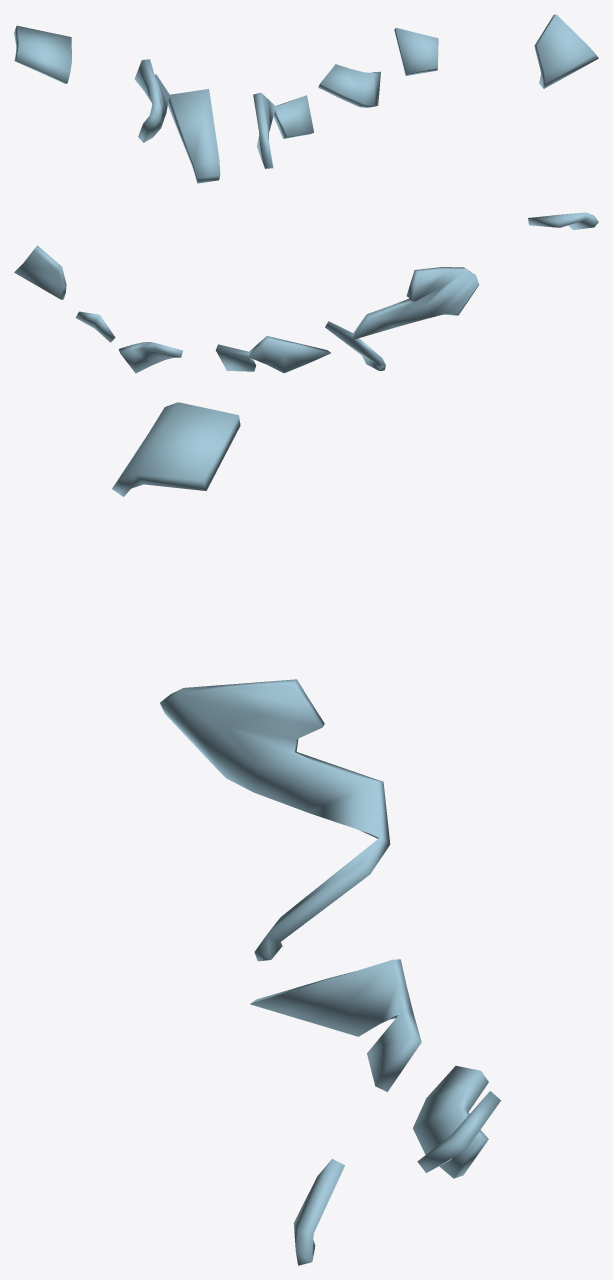
File: articulacoes-palmar-carpometacarpal-ligaments-r.glb
3 renders of one model, top to bottom at view 1: azimuth 30°, elevation 25°; view 2: azimuth 150°, elevation 25°; view 3: azimuth 270°, elevation 25°, orthographic. The views are drawn at different scales.
Visible parts, largest first — view 1: Palmar carpometacarpal ligaments.r; view 2: Palmar carpometacarpal ligaments.r; view 3: Palmar carpometacarpal ligaments.r.
Part boxes in pixels (x1,y1,x2,y2): Palmar carpometacarpal ligaments.r: (14, 14, 598, 183); Palmar carpometacarpal ligaments.r: (14, 212, 598, 373); Palmar carpometacarpal ligaments.r: (112, 402, 500, 1265).
Bounding box in the file's own units: 0.0429 × 0.0151 × 0.0132.
